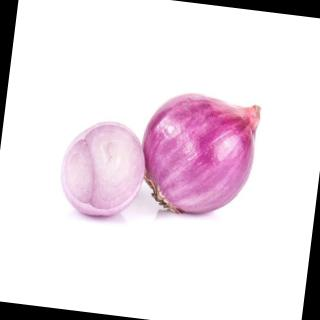Bawang Merah: (135, 85, 266, 226), (52, 114, 154, 227)
